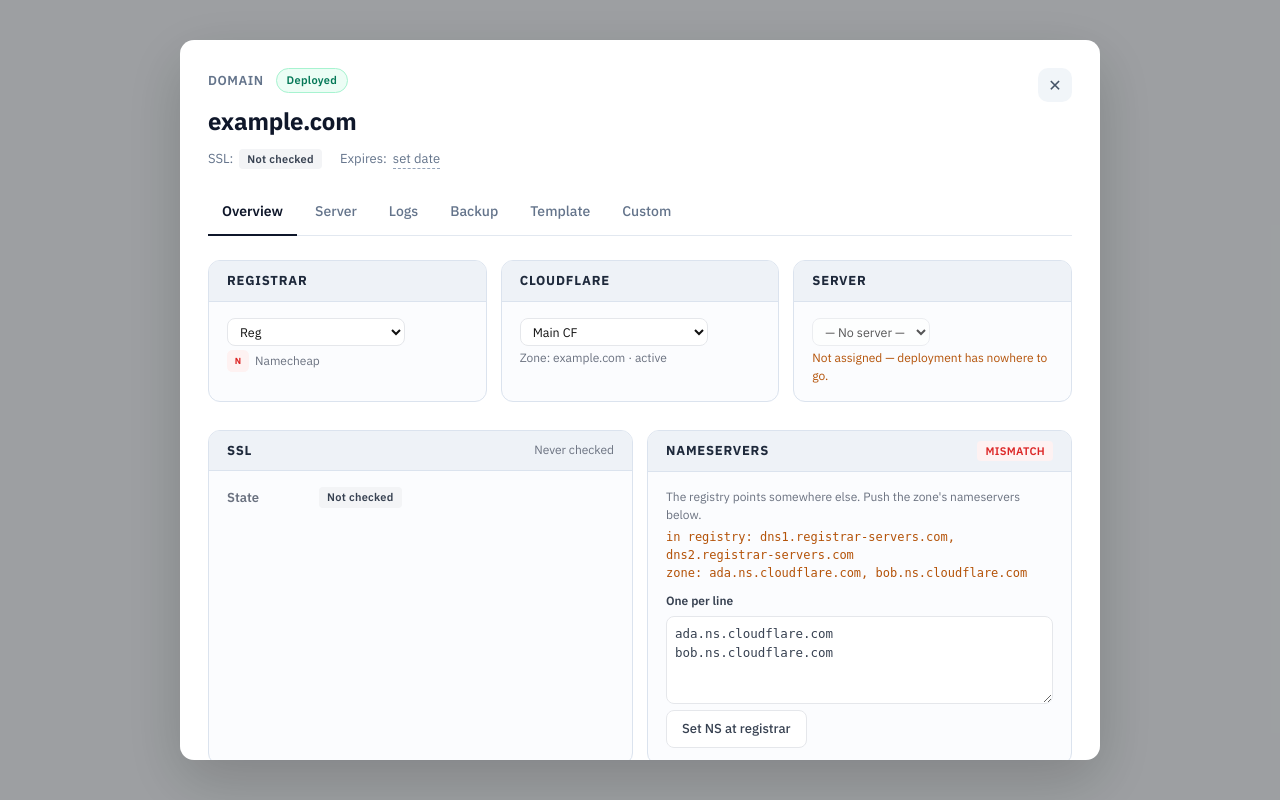
Test: делегирование — три состояния и «не знаем» › после удавшегося пуша не велит пушить снова
The image size is (1280, 800).
Expected: the text "MISMATCH" is shown, [978,440,1053,461]
Expected: the text "Push the zone's nameservers below" is shown, [666,489,1020,522]
Click the button "Set NS at registrar": (736, 729) [666,710,806,748]
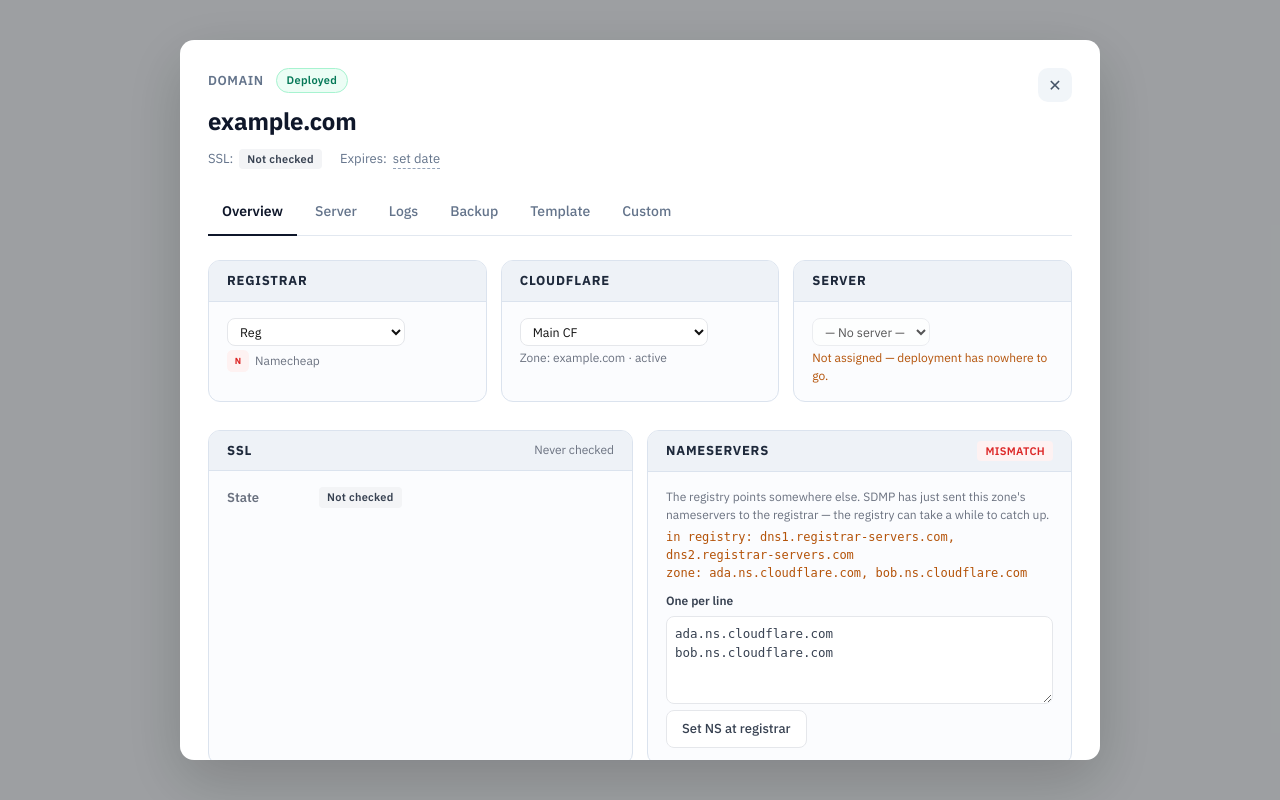
Expected: the text "MISMATCH" is shown, [978,440,1053,461]
Now the text "has just sent this zone's nameservers to the registrar" is shown, box [666,489,1049,522]
Now the text "Push the zone's nameservers below" is gone
